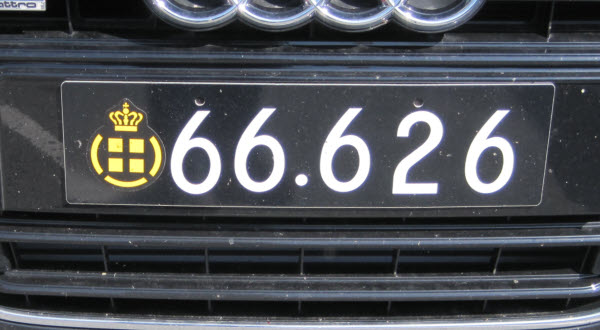license_plate: (59, 81, 556, 210)
